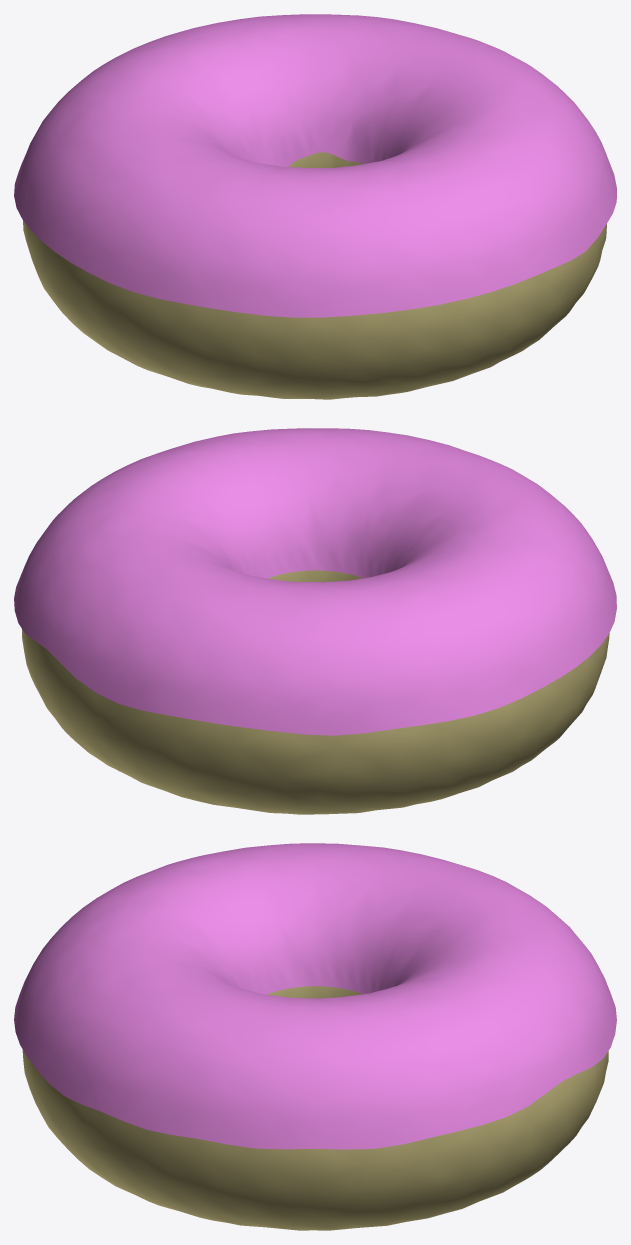
The model's file is gameDonut.fbx.
3 views of the same model, one above another, from view 1: azimuth 30°, elevation 25°; view 2: azimuth 150°, elevation 25°; view 3: azimuth 270°, elevation 25° (orthographic).
Visible parts, largest first — view 1: Torus.001, Torus; view 2: Torus.001, Torus; view 3: Torus.001, Torus.
Part boxes in pixels (x1,y1,x2,y2): Torus.001: (14,14,616,317); Torus: (23,152,606,399); Torus.001: (14,428,616,735); Torus: (22,570,609,814); Torus.001: (14,843,616,1149); Torus: (22,986,608,1230).
Bounding box in the file's own units: 326 × 126 × 325.
